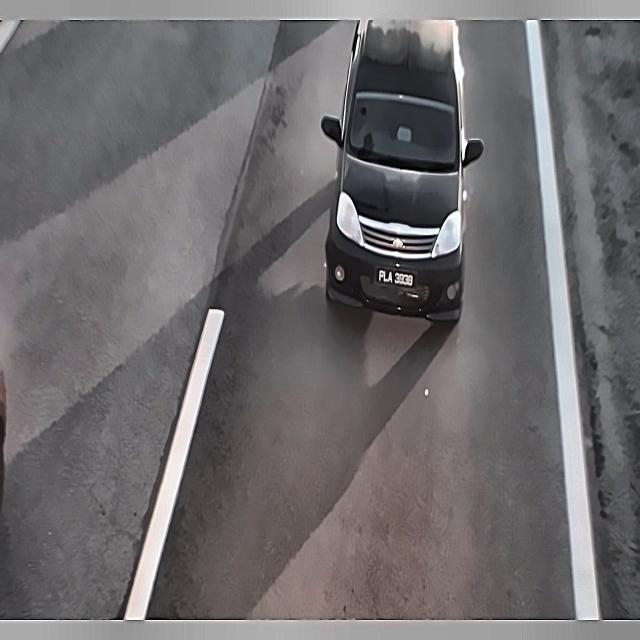car: (372, 256, 419, 295)
